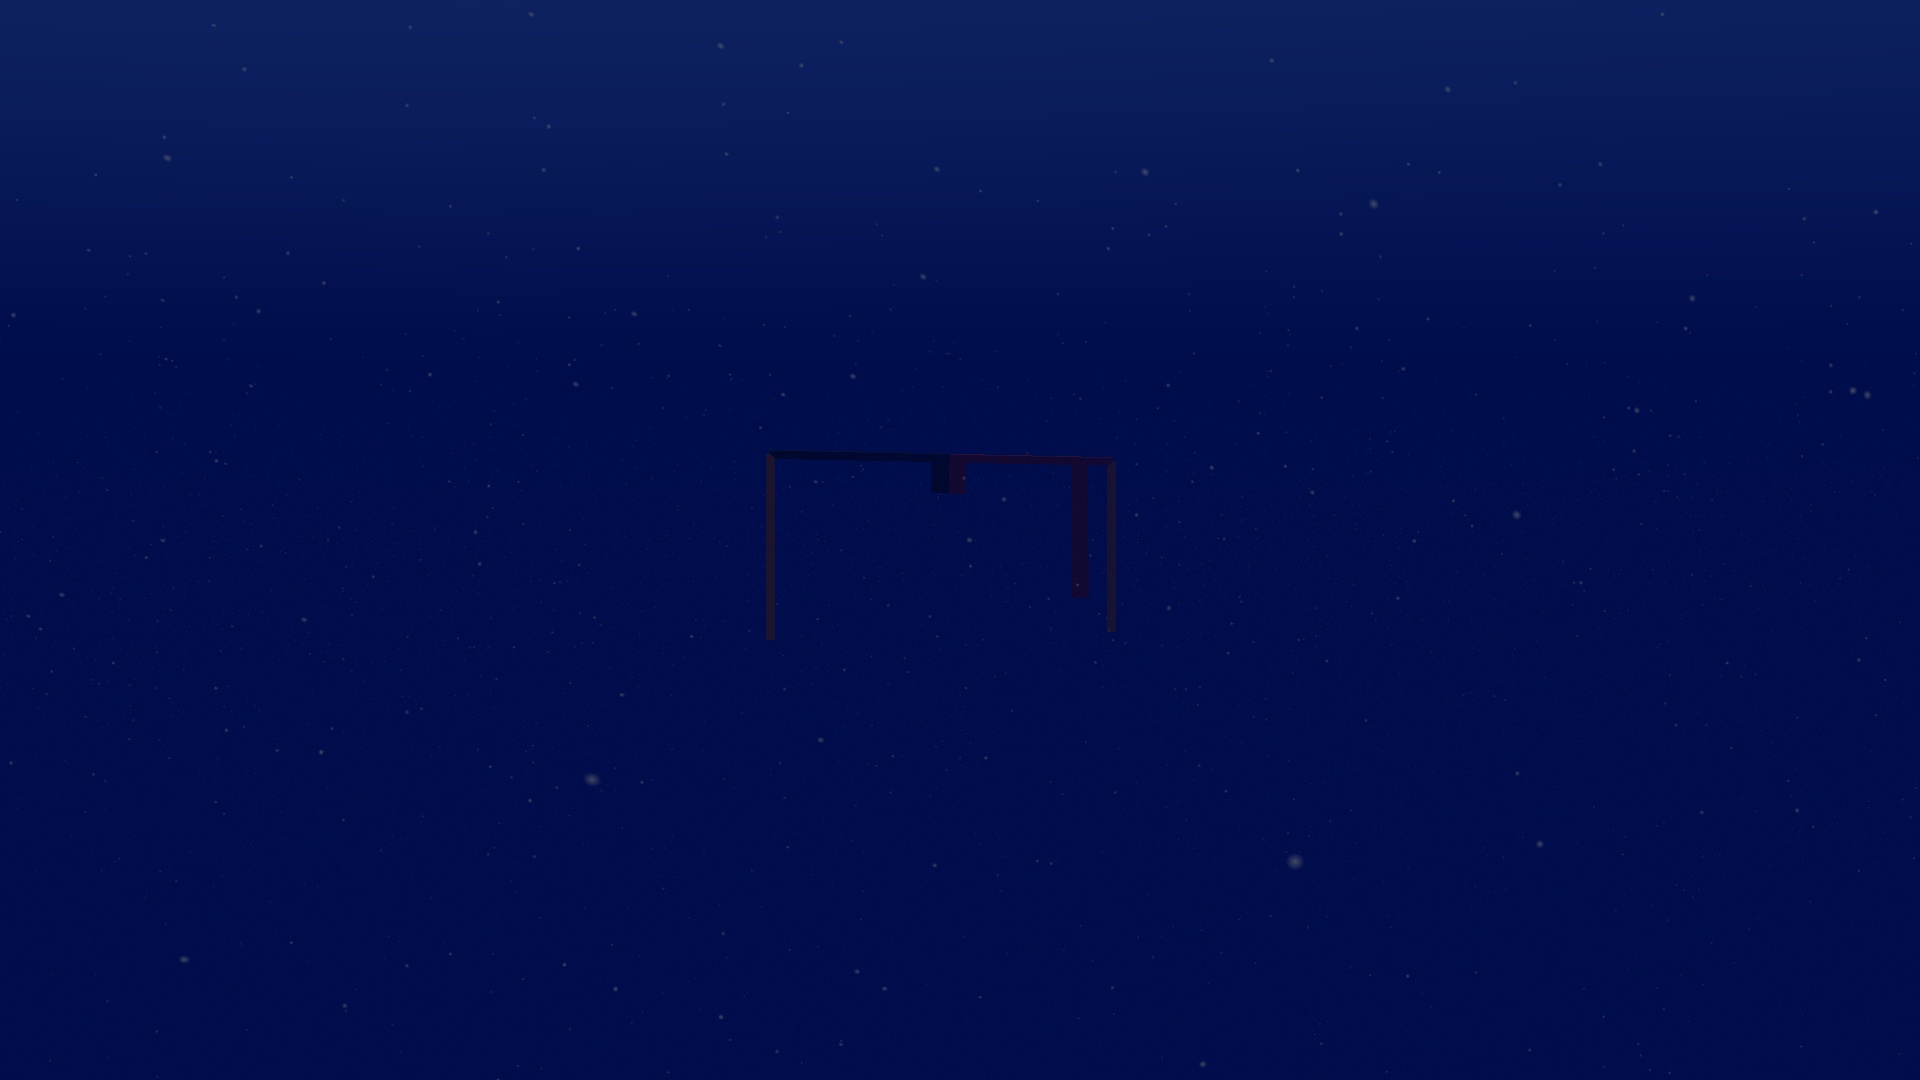Gate: (760, 444, 1125, 645)
